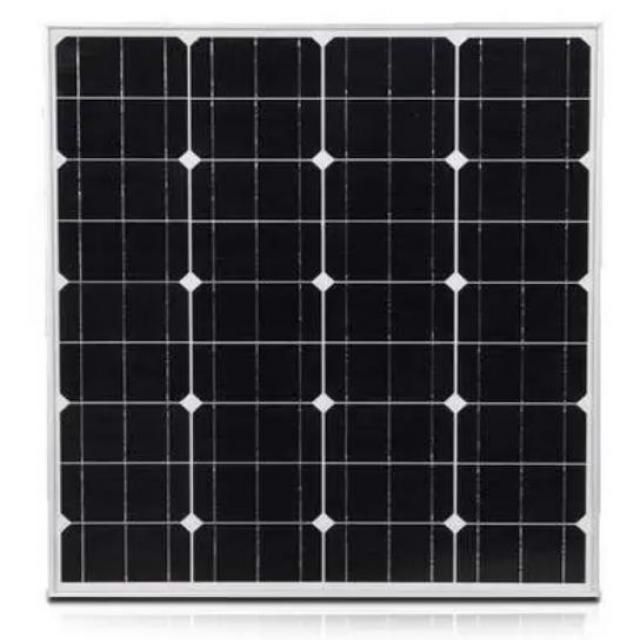no faulty: (64, 35, 594, 587)
